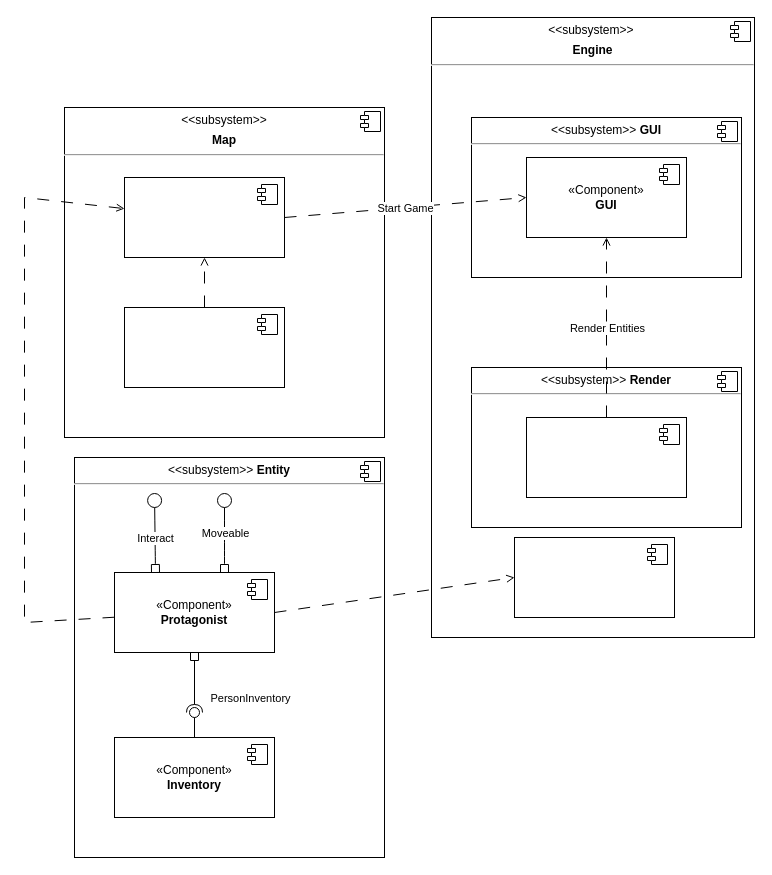
This 772x875 diagram has some shape labels left out. The shapes that lost their labels are listed below. From the top down, each one's centre as x and y in pixels, then its label:
At (204,217): "«Component» Floor".
At (204,347): "«Component» Levels".
At (606,457): "«Component» RenderEntity".
At (594,577): "«Component» Controller".
